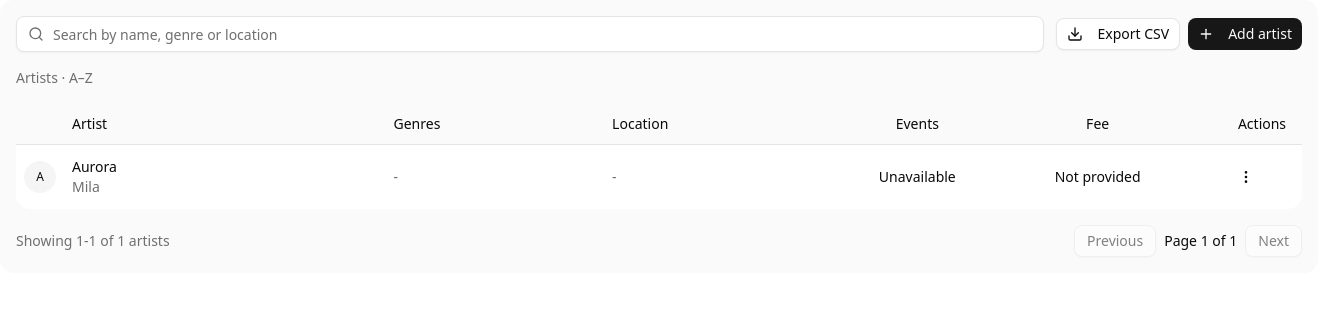
downloads the server CSV with the server file name
Click the button "Export CSV" at (1118, 34), box left=1056, top=18, right=1180, bottom=50
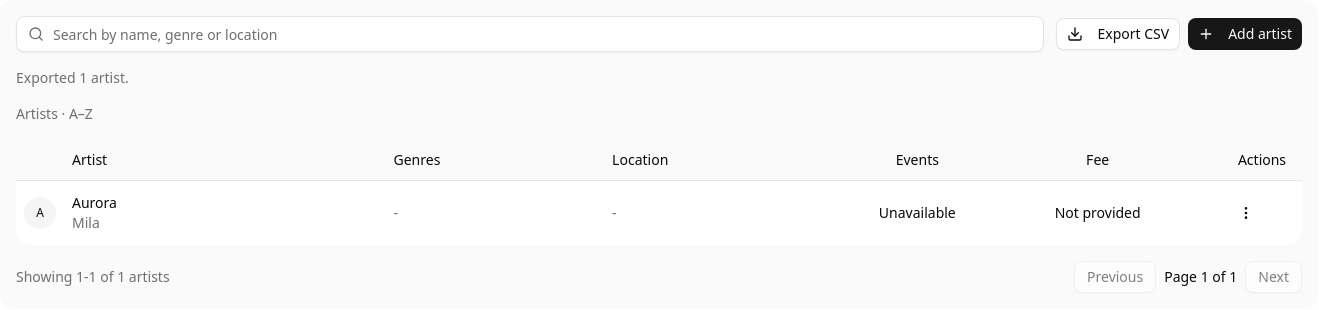
Expected: the text "Exported 1 artist." is shown, left=16, top=68, right=129, bottom=87
